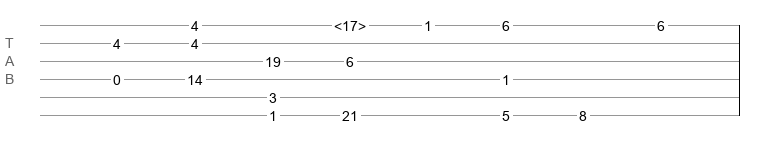0: (113, 72, 121, 82)
1: (269, 108, 277, 118), (424, 18, 432, 28), (502, 72, 510, 82)
14: (187, 72, 203, 82)
19: (265, 54, 281, 64)
21: (342, 108, 358, 118)
3: (269, 90, 277, 100)
4: (113, 36, 121, 46), (191, 18, 199, 28), (191, 36, 199, 46)
5: (502, 108, 510, 118)
6: (346, 54, 354, 64), (502, 18, 510, 28), (657, 18, 665, 28)
8: (579, 108, 587, 118)
harmonic: (334, 18, 366, 28)
